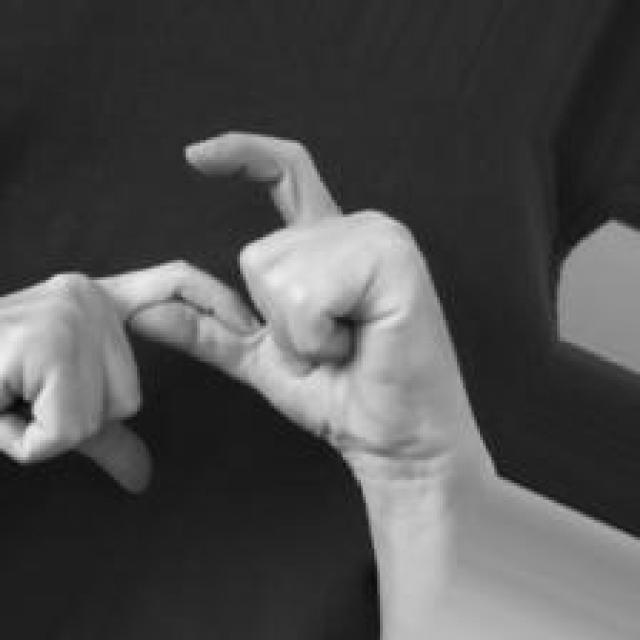S: (0, 126, 501, 499)
